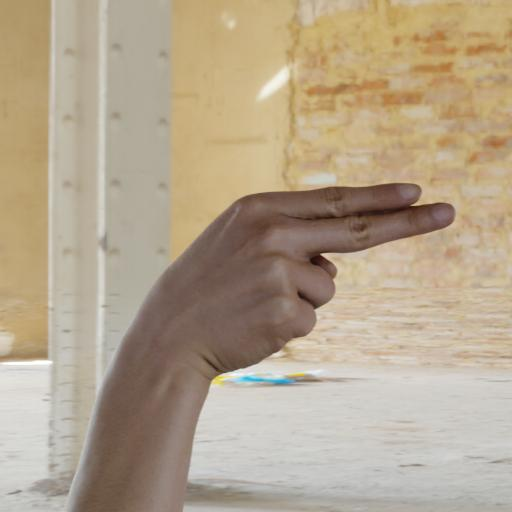H: (82, 170, 470, 413)
